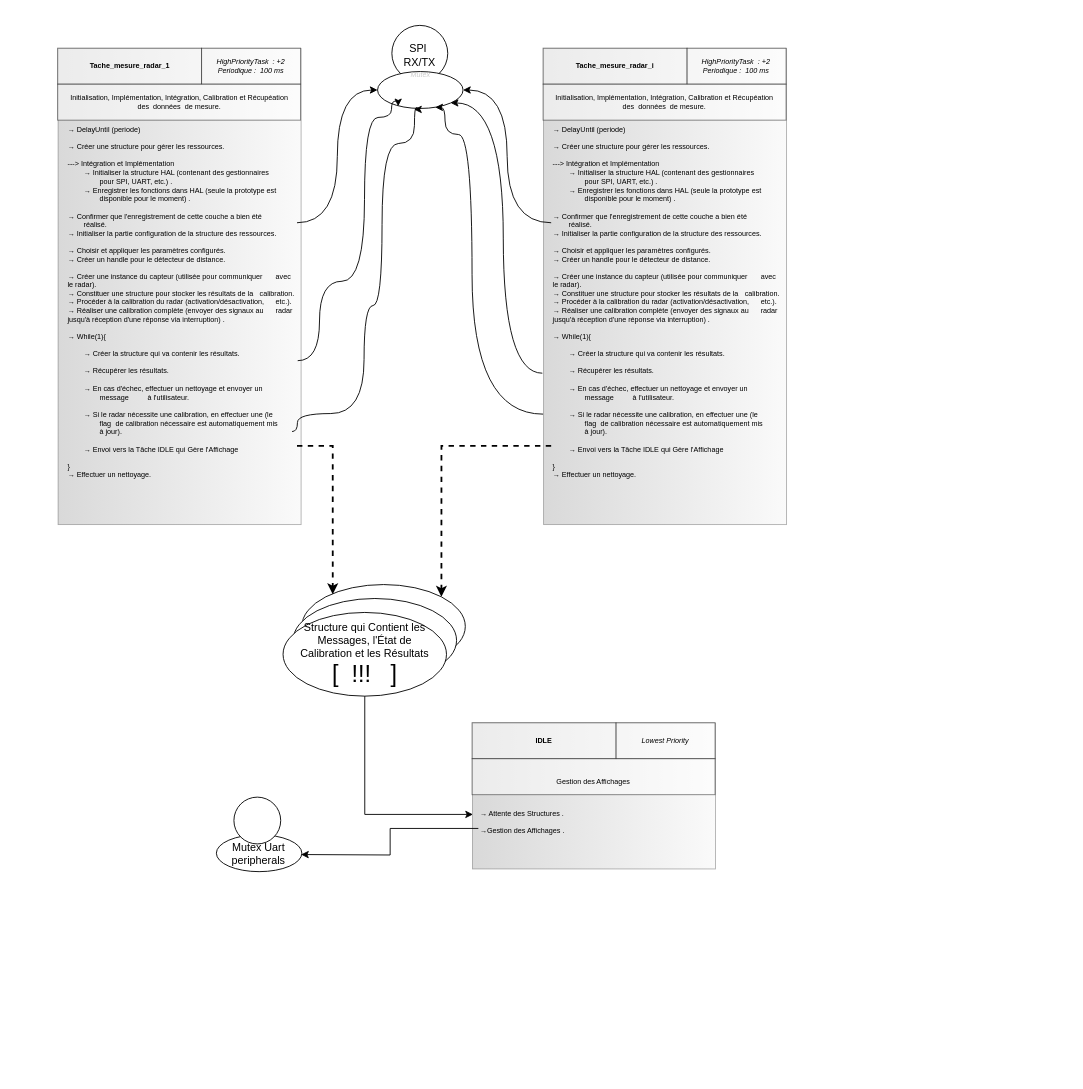
Image size: 1083x1089. Some labels were removed from this diagram. Here are the shapes that lost their labels. From the top down, the centre of each, then its label:
At point 420,89: "Mutex SPI peripherals".
At point 257,820: "UART TX".
